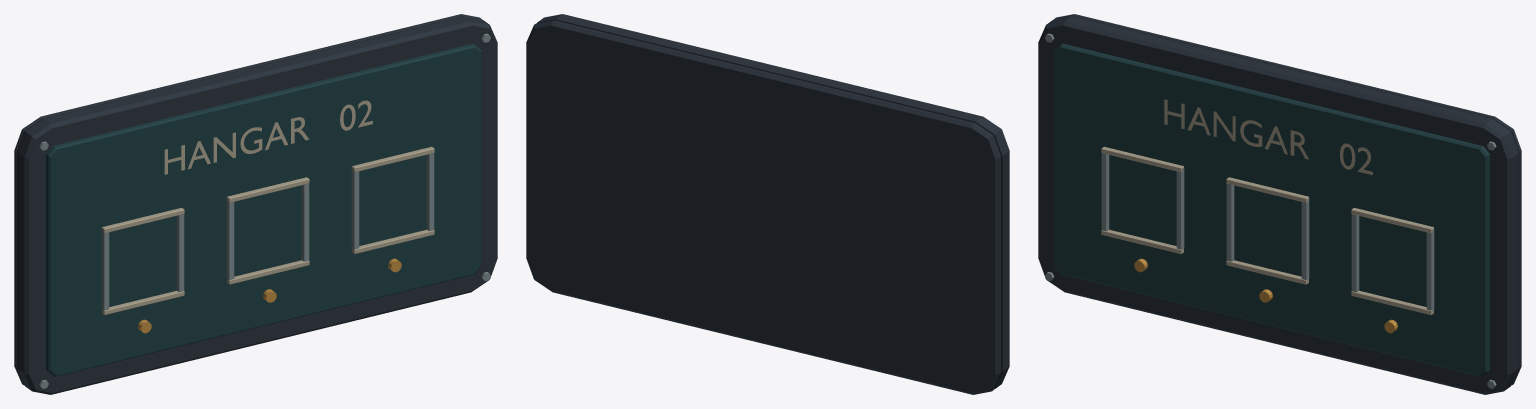
The model's file is PZ-03_airlock_mimic.glb.
3 renders of one model, left to right at view 1: azimuth 30°, elevation 25°; view 2: azimuth 150°, elevation 25°; view 3: azimuth 330°, elevation 25°, orthographic.
Parts seen in each view (by area): view 1: PZ-03_airlock_mimic; view 2: PZ-03_airlock_mimic; view 3: PZ-03_airlock_mimic.
Part boxes in pixels (x1,y1,x2,y2): PZ-03_airlock_mimic: [14, 14, 497, 394]; PZ-03_airlock_mimic: [526, 14, 1009, 394]; PZ-03_airlock_mimic: [1038, 14, 1521, 394].
Size of the model in its own units: 1.06 by 0.58 by 0.086.
